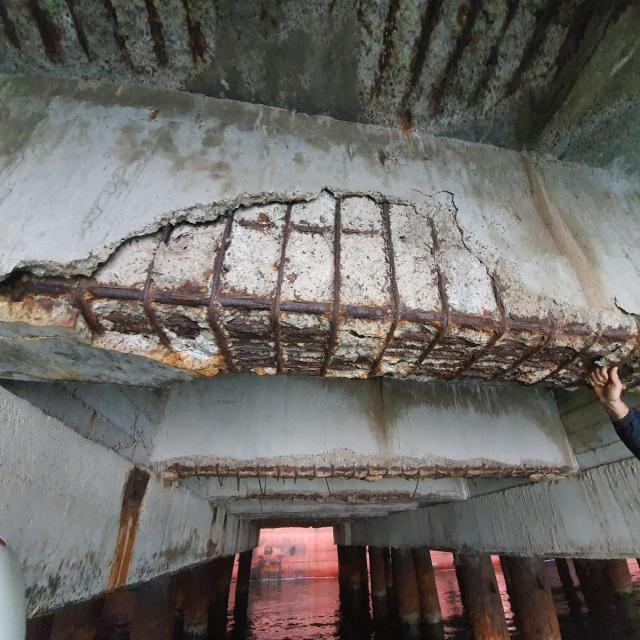Spalling: (0, 190, 639, 388), (356, 0, 573, 129), (0, 0, 216, 87)
corrosion: (430, 0, 482, 115), (369, 202, 401, 376), (207, 216, 235, 370), (320, 200, 339, 376), (271, 205, 289, 373), (103, 0, 134, 69)
